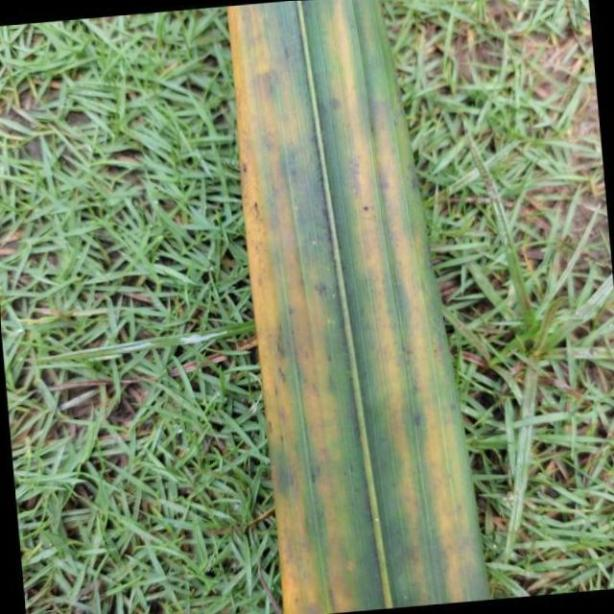Megnesium: (221, 0, 489, 614)
